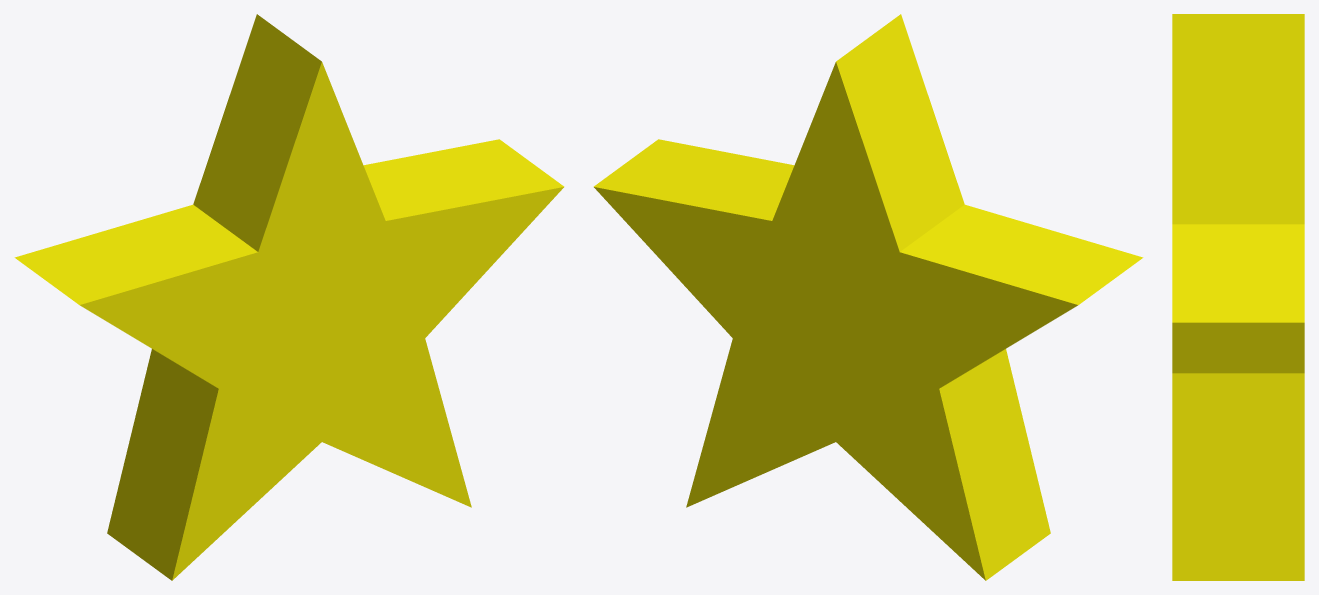
The model's file is particle.obj.
The picture shows the model from 3 angles, left to right: view 1: azimuth 30°, elevation 25°; view 2: azimuth 150°, elevation 25°; view 3: azimuth 270°, elevation 25°; orthographic projection.
Parts seen in each view (by area): view 1: Circle; view 2: Circle; view 3: Circle.
Part boxes in pixels (x1,y1,x2,y2): Circle: [14, 14, 564, 580]; Circle: [593, 14, 1143, 580]; Circle: [1172, 14, 1304, 580].
Size of the model in its own units: 1.9 by 1.81 by 0.4416.
1 material, 1 textured.
